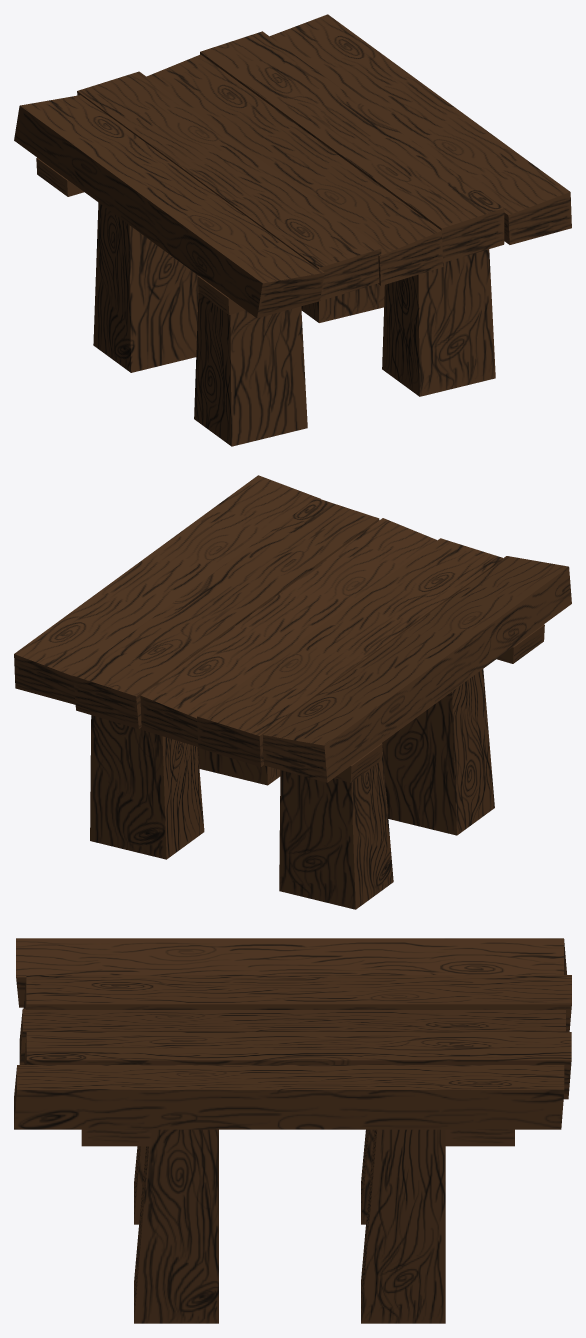
File: Mesa.fbx
3 views of the same model, one above another, from view 1: azimuth 30°, elevation 25°; view 2: azimuth 150°, elevation 25°; view 3: azimuth 270°, elevation 25° (orthographic). The views are drawn at different scales.
Visible parts, largest first — view 1: Cube.003; view 2: Cube.003; view 3: Cube.003.
Boxes of the visible parts, left/top/right/bottom form: Cube.003: left=14, top=14, right=571, bottom=446; Cube.003: left=14, top=475, right=571, bottom=909; Cube.003: left=14, top=938, right=571, bottom=1323.
Bounding box in the file's own units: 202 × 137 × 276.
1 material, 1 textured.
